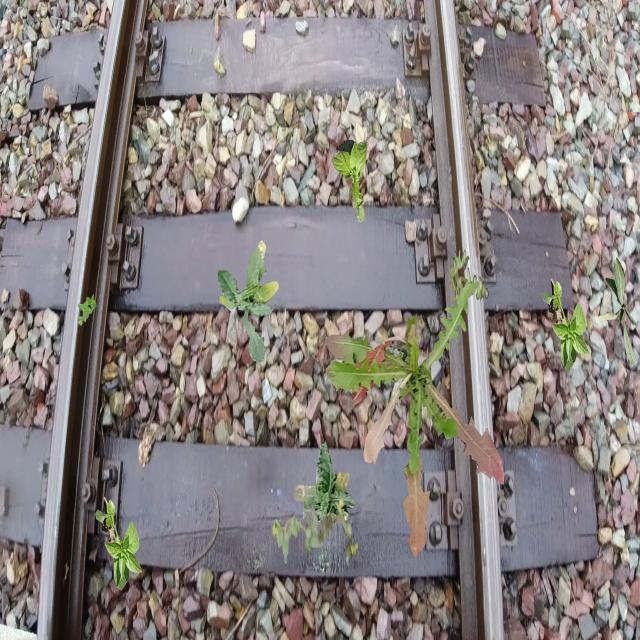Plant: (325, 282, 505, 560), (217, 239, 280, 364), (272, 497, 358, 566), (292, 440, 356, 523), (95, 497, 143, 592), (542, 278, 590, 373), (599, 258, 639, 368), (448, 249, 490, 321), (332, 139, 368, 222), (77, 293, 96, 326)
